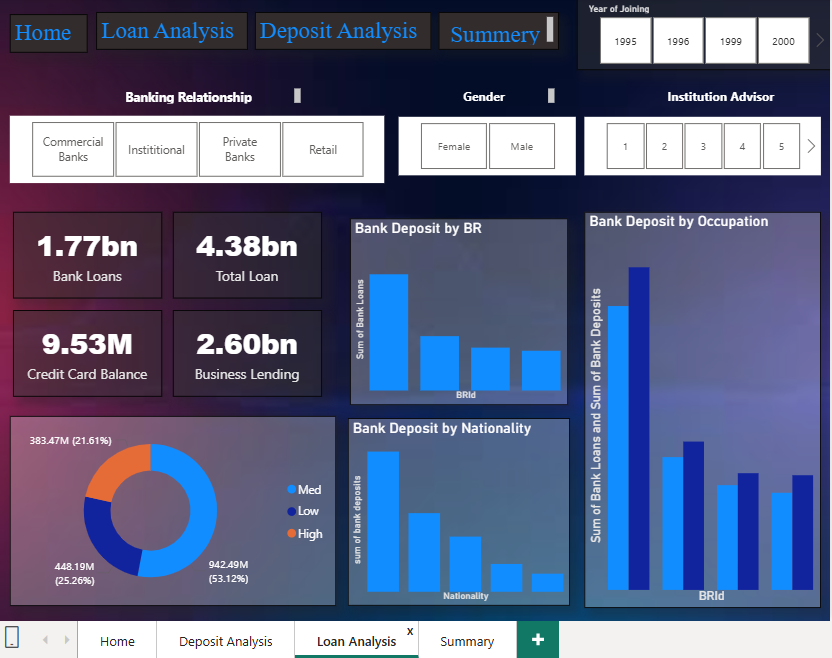

Layout of this report page (visuals, bound fields, positions):
{"tool":"powerbi","page":{"name":"Loan Analysis","canvas":[960,720],"ordinal":2},"visuals":[{"type":"textbox","box":[12.5,18.7,89.8,44.9],"z":0},{"type":"textbox","box":[112.2,16.2,174.6,43.6],"z":1000},{"type":"textbox","box":[295.6,16.2,203.3,43.6],"z":2000},{"type":"textbox","box":[507.6,16.2,138.4,43.6],"z":3000},{"type":"slicer","fields":{"Values":["Banking_case_customer.Year of Joining"]},"box":[667.2,0,293.1,83.6],"z":4000},{"type":"actionButton","box":[12.5,78.6,89.8,43.6],"z":5000},{"type":"actionButton","box":[112.2,16.2,174.6,43.6],"z":6000},{"type":"actionButton","box":[295.6,16.2,203.3,43.6],"z":7000},{"type":"actionButton","box":[508.8,18.7,137.2,44.9],"z":8000},{"type":"card","fields":{"Values":["Sum(Banking_case_customer.Bank Loans)"]},"box":[16.2,246.9,172.1,99.8],"z":9000},{"type":"card","fields":{"Values":["Sum(Banking_case_customer.Credit Card Balance)"]},"box":[16.2,360.4,172.1,99.8],"z":10000},{"type":"card","fields":{"Values":["Sum(Banking_case_customer.Business Lending)"]},"box":[200.8,360.4,172.1,99.8],"z":11000},{"type":"card","fields":{"Values":["Banking_case_customer.Total Loan"]},"box":[200.8,246.9,172.1,99.8],"z":12000},{"type":"donutChart","fields":{"Category":["Banking_case_customer.Income Band"],"Y":["Sum(Banking_case_customer.Bank Loans)"]},"box":[12.5,482.6,376.6,219.5],"z":13000},{"type":"clusteredColumnChart","title":"Bank Deposit by BR","fields":{"Category":["Banking_case_customer.BRId"],"Y":["Sum(Banking_case_customer.Bank Loans)"]},"box":[405.3,254.8,251.9,215.3],"z":14000},{"type":"clusteredColumnChart","title":"Bank Deposit by Nationality","fields":{"Category":["Banking_case_customer.Nationality"],"Y":["Sum(Banking_case_customer.Bank Loans)"]},"box":[402.8,485.3,256.9,217],"z":15000},{"type":"slicer","fields":{"Values":["Banking_case_customer.BRId"]},"box":[12.5,135.9,432.7,77.3],"z":16000},{"type":"slicer","fields":{"Values":["Banking_case_customer.GenderId"]},"box":[461.4,137.2,204.5,67.3],"z":17000},{"type":"slicer","fields":{"Values":["Banking_case_customer.IAId"]},"box":[675.9,137.2,273.1,67.3],"z":18000},{"type":"textbox","box":[140.9,99.8,212,27.4],"z":19000},{"type":"textbox","box":[531.3,99.8,114.7,27.4],"z":20000},{"type":"textbox","box":[767,99.8,154.6,36.2],"z":21000},{"type":"clusteredColumnChart","title":"Bank Deposit by Occupation","fields":{"Category":["Banking_case_customer.BRId"],"Y":["Sum(Banking_case_customer.Bank Loans)","Sum(Banking_case_customer.Bank Deposits)"]},"box":[675.9,246.9,273.1,457.7],"z":22000}]}

Visuals, with their boxes on the page's 960x720 design canvas (x1, y1, x2, y2). These are canvas units, not pixel positions in the 832x658 screenshot, which may show the page scaled, cropped or inside an application window:
textbox: region(12, 19, 102, 64)
textbox: region(112, 16, 287, 60)
textbox: region(296, 16, 499, 60)
textbox: region(508, 16, 646, 60)
slicer - Banking_case_customer.Year of Joining: region(667, 0, 960, 84)
actionButton: region(12, 79, 102, 122)
actionButton: region(112, 16, 287, 60)
actionButton: region(296, 16, 499, 60)
actionButton: region(509, 19, 646, 64)
card - Sum(Banking_case_customer.Bank Loans): region(16, 247, 188, 347)
card - Sum(Banking_case_customer.Credit Card Balance): region(16, 360, 188, 460)
card - Sum(Banking_case_customer.Business Lending): region(201, 360, 373, 460)
card - Banking_case_customer.Total Loan: region(201, 247, 373, 347)
donutChart - Banking_case_customer.Income Band x Sum(Banking_case_customer.Bank Loans): region(12, 483, 389, 702)
"Bank Deposit by BR" clusteredColumnChart: region(405, 255, 657, 470)
"Bank Deposit by Nationality" clusteredColumnChart: region(403, 485, 660, 702)
slicer - Banking_case_customer.BRId: region(12, 136, 445, 213)
slicer - Banking_case_customer.GenderId: region(461, 137, 666, 204)
slicer - Banking_case_customer.IAId: region(676, 137, 949, 204)
textbox: region(141, 100, 353, 127)
textbox: region(531, 100, 646, 127)
textbox: region(767, 100, 922, 136)
"Bank Deposit by Occupation" clusteredColumnChart: region(676, 247, 949, 705)
